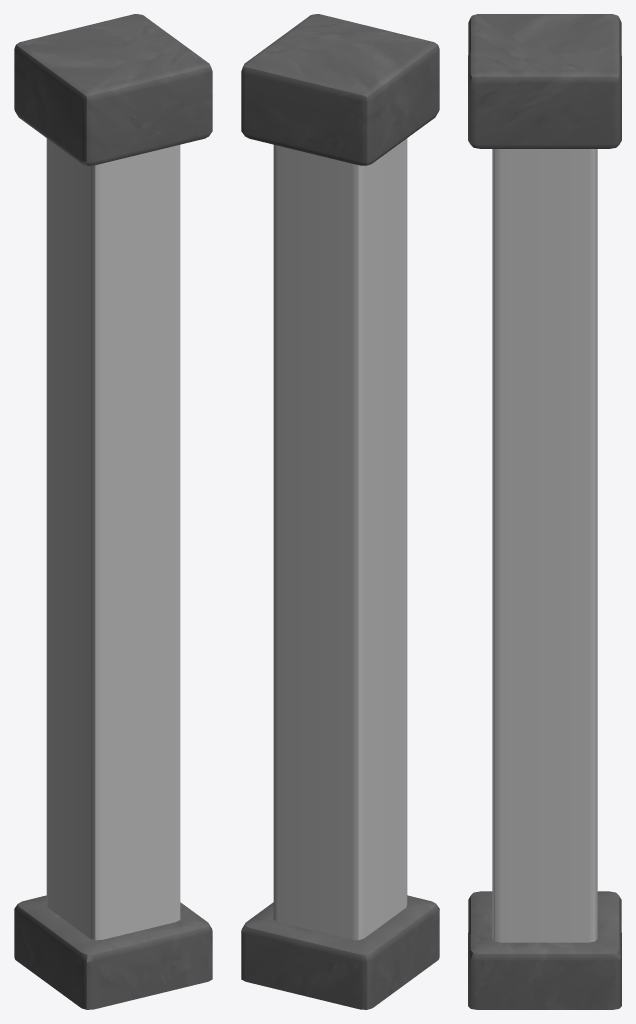
File: SM_InsideCornerPillar.fbx
The picture shows the model from 3 angles, left to right: view 1: azimuth 30°, elevation 25°; view 2: azimuth 150°, elevation 25°; view 3: azimuth 270°, elevation 25°; orthographic projection. The views are drawn at different scales.
Parts seen in each view (by area): view 1: SM_InsideCornerPillar; view 2: SM_InsideCornerPillar; view 3: SM_InsideCornerPillar.
Boxes of the visible parts, x1=… form: SM_InsideCornerPillar: x1=14, y1=14, x2=212, y2=1009; SM_InsideCornerPillar: x1=241, y1=14, x2=439, y2=1009; SM_InsideCornerPillar: x1=468, y1=14, x2=621, y2=1009.
Bounding box in the file's own units: 73.06 × 490 × 73.21.
